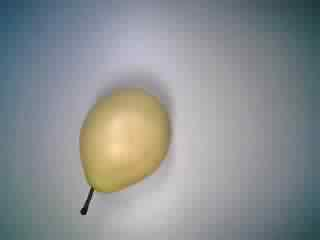pear: (65, 80, 180, 222)
